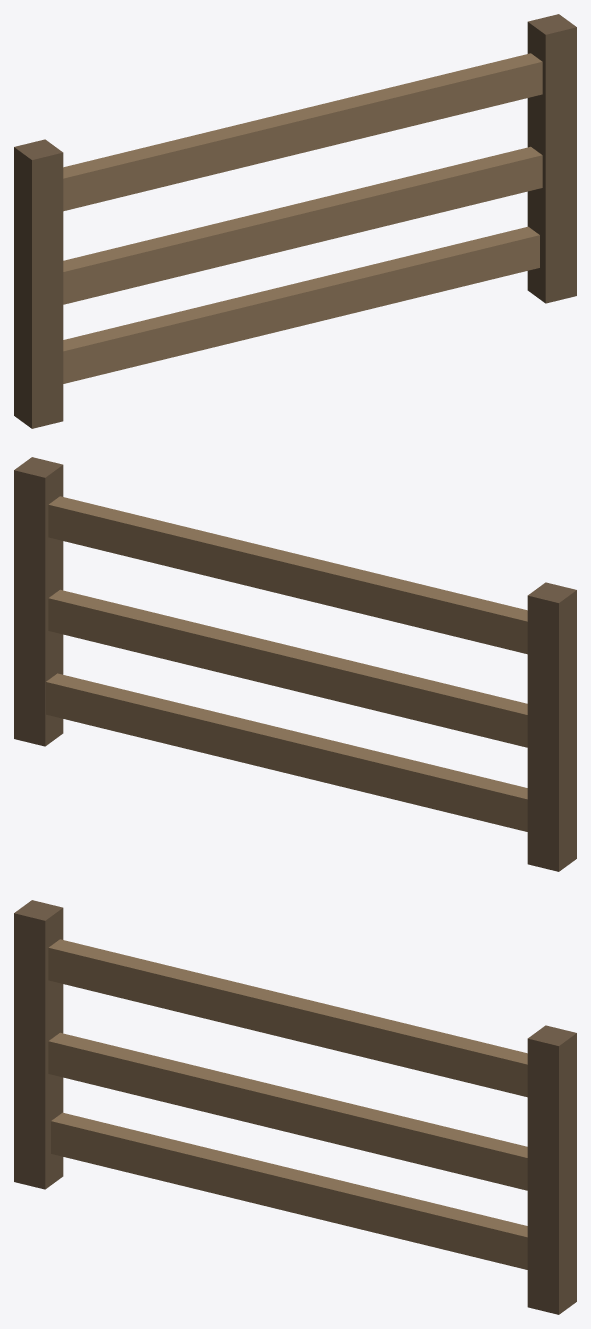
Rendered from fence_section.glb.
3 renders of one model, top to bottom at view 1: azimuth 30°, elevation 25°; view 2: azimuth 150°, elevation 25°; view 3: azimuth 330°, elevation 25°, orthographic.
Parts seen in each view (by area): view 1: fence_section; view 2: fence_section; view 3: fence_section.
Boxes of the visible parts, left/top/right/bottom form: fence_section: left=14, top=14, right=576, bottom=428; fence_section: left=14, top=457, right=576, bottom=871; fence_section: left=14, top=900, right=576, bottom=1314.
Bounding box in the file's own units: 2.44 × 1.15 × 0.14.
